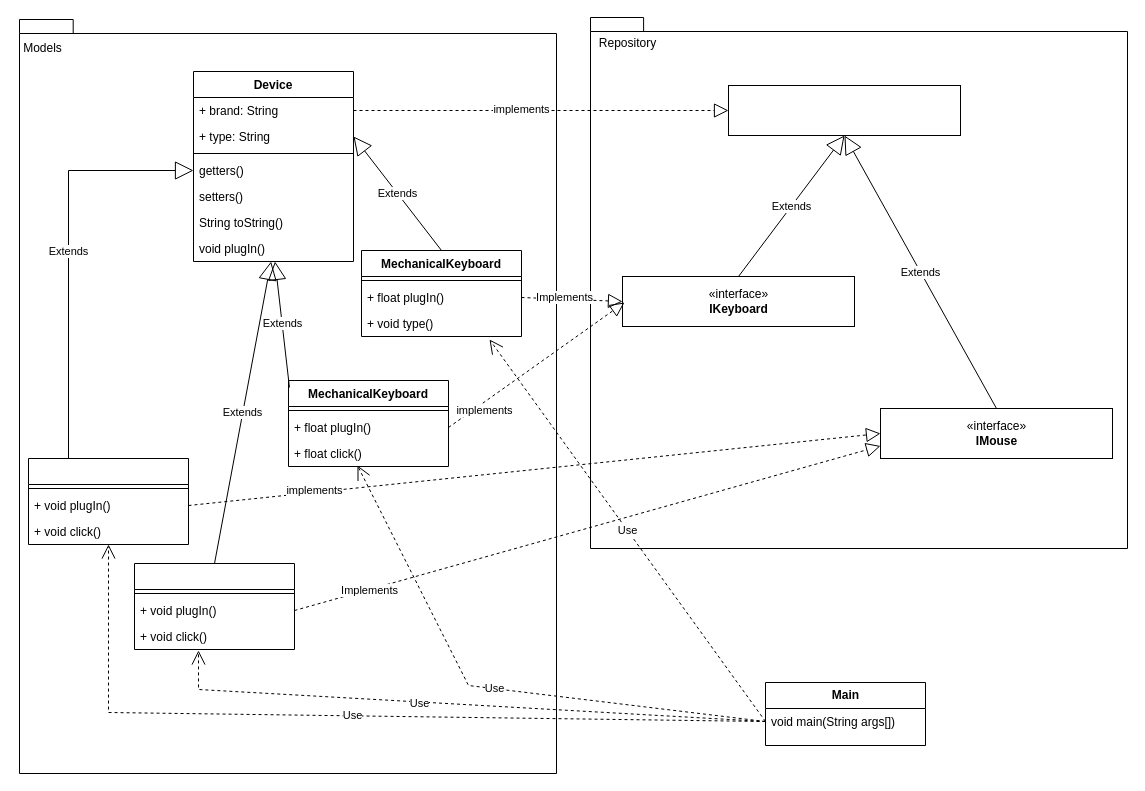
The diagram is 1145 pixels wide and 791 high, and some of its shapes have lost their labels. Here are the shapes that lost their labels. From the top down, the box of each, then its label:
(728, 84, 960, 136): «interface» IAction
(28, 458, 188, 544): CableMouse
(134, 562, 294, 650): TactileMouse
